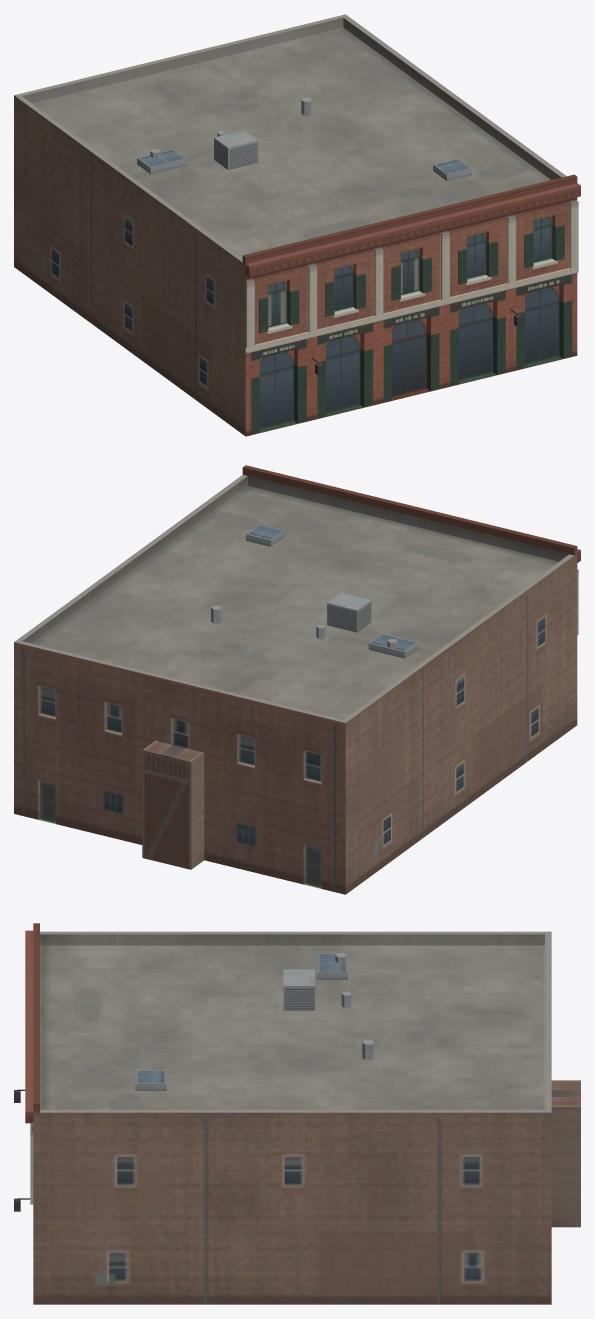
File: sf_brick_c.glb
3 renders of one model, top to bottom at view 1: azimuth 30°, elevation 25°; view 2: azimuth 150°, elevation 25°; view 3: azimuth 270°, elevation 25°, orthographic. The views are drawn at different scales.
Visible parts, largest first — view 1: sf_brick_c; view 2: sf_brick_c; view 3: sf_brick_c.
Boxes of the visible parts, left/top/right/bottom form: sf_brick_c: left=14, top=14, right=580, bottom=436; sf_brick_c: left=14, top=465, right=580, bottom=894; sf_brick_c: left=14, top=923, right=580, bottom=1304.
Size of the model in its own units: 19 by 10.06 by 25.15.
Materials: 1 (1 with a texture image).
